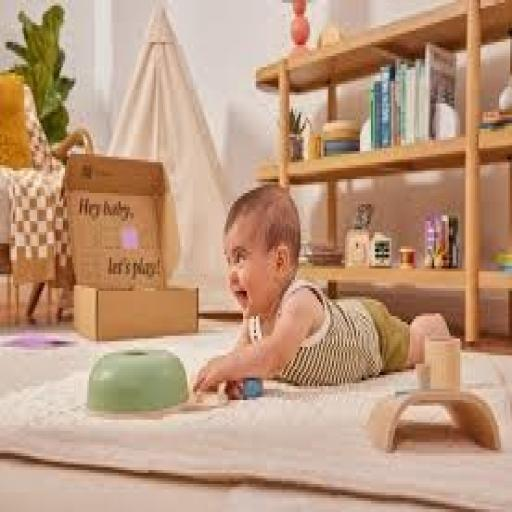baby: (195, 185, 448, 400)
